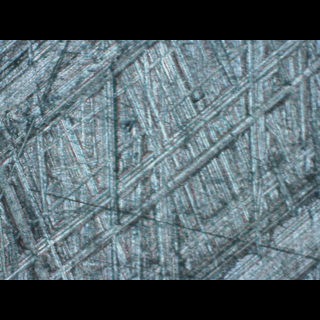d: (35, 50, 290, 269)
